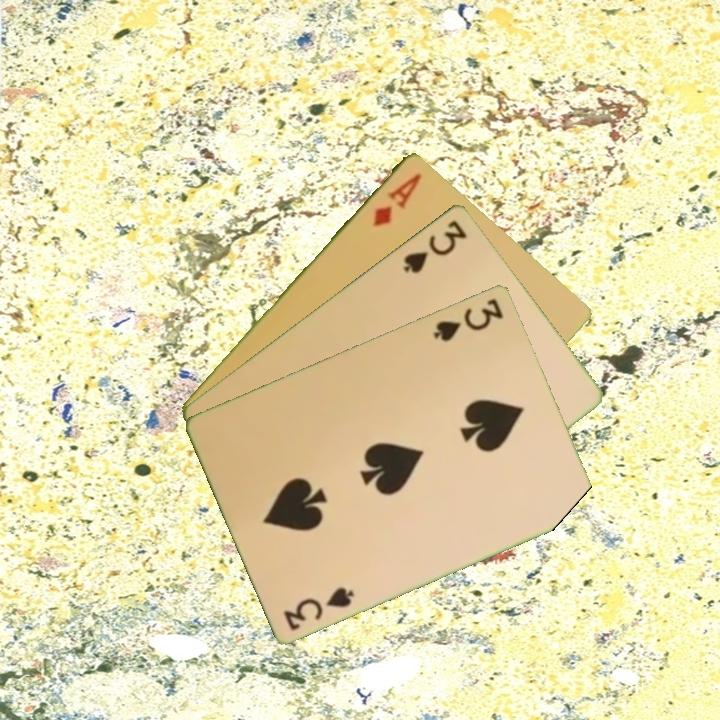3s: (400, 215, 470, 276), (280, 583, 358, 633), (430, 294, 506, 344)
Ad: (368, 169, 425, 230)
